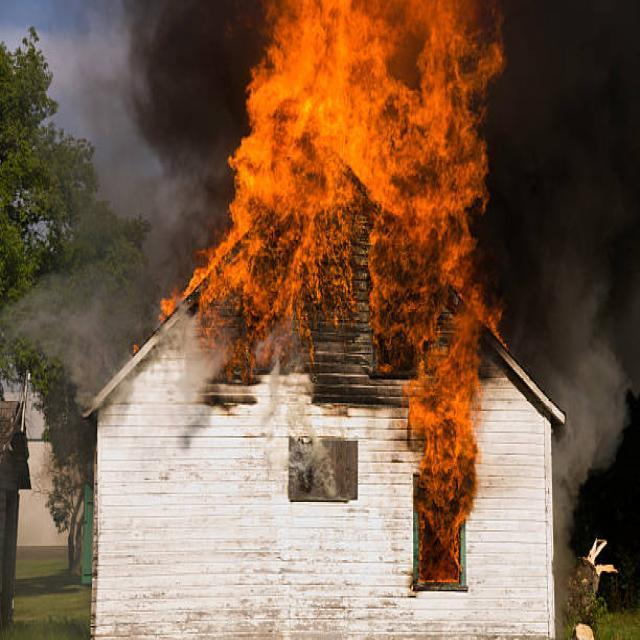Fire: (229, 0, 493, 406), (411, 366, 464, 589)
Smoke: (474, 0, 640, 502), (128, 0, 242, 254), (42, 234, 182, 366)
